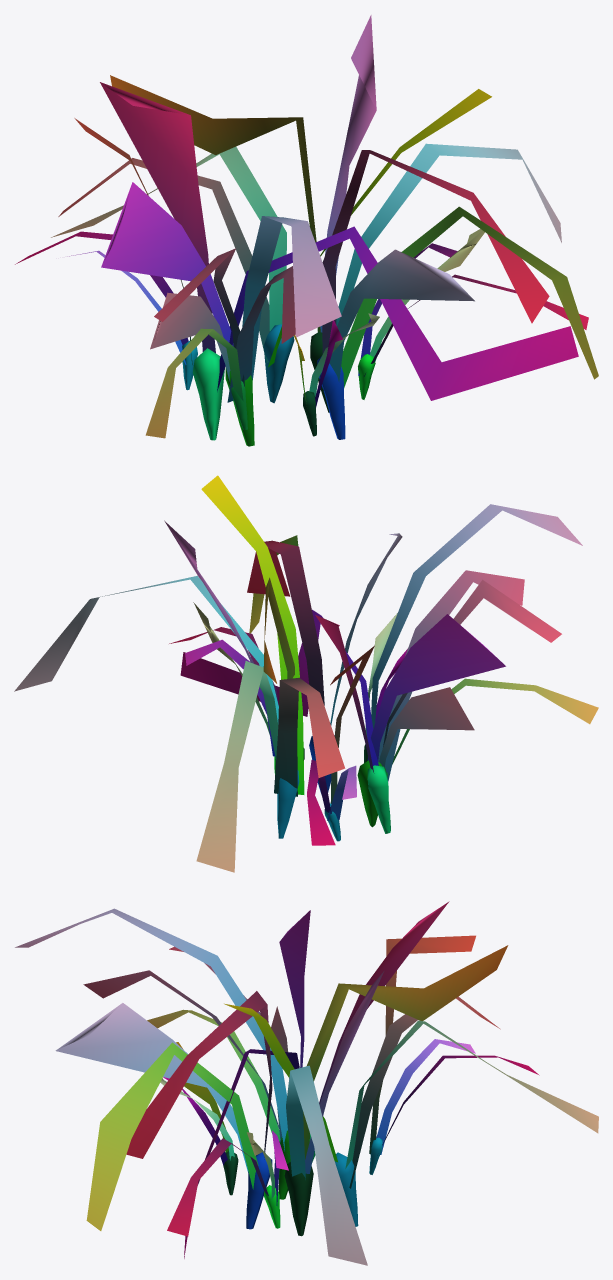
Rendered from Ribbon_Grass_tbdpec3r_High_tbdpec3r_VarF_LOD1.fbx.
3 renders of one model, top to bottom at view 1: azimuth 30°, elevation 25°; view 2: azimuth 150°, elevation 25°; view 3: azimuth 270°, elevation 25°, orthographic. The views are drawn at different scales.
Visible parts, largest first — view 1: _d06e_VarF_LOD2; view 2: _d06e_VarF_LOD2; view 3: _d06e_VarF_LOD2.
Part boxes in pixels (box(x1,y1,x2,y2)): _d06e_VarF_LOD2: box(15, 15, 598, 446); _d06e_VarF_LOD2: box(14, 475, 598, 872); _d06e_VarF_LOD2: box(15, 901, 598, 1265).
Bounding box in the file's own units: 31.48 × 19.49 × 33.63.
